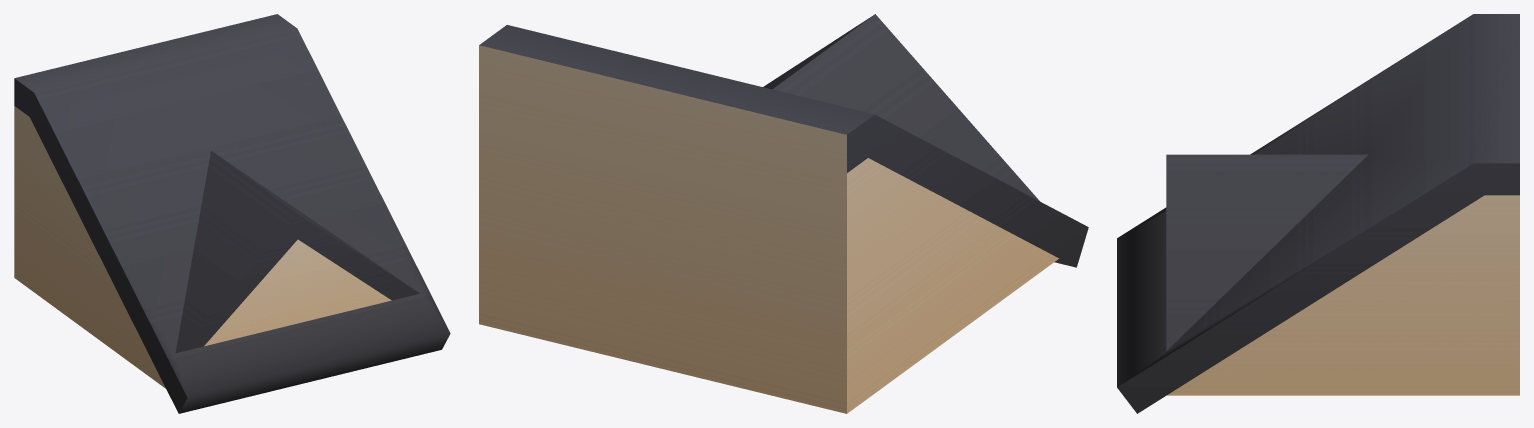
The model's file is roof-slanted-detail.glb.
3 views of the same model, side by side, from view 1: azimuth 30°, elevation 25°; view 2: azimuth 150°, elevation 25°; view 3: azimuth 270°, elevation 25° (orthographic). The views are drawn at different scales.
Parts seen in each view (by area): view 1: roof-slanted-detail; view 2: roof-slanted-detail; view 3: roof-slanted-detail.
Boxes of the visible parts, <box> form: roof-slanted-detail: <box>14,14,450,413</box>; roof-slanted-detail: <box>479,14,1088,413</box>; roof-slanted-detail: <box>1117,14,1519,413</box>.
Bounding box in the file's own units: 1 × 0.782 × 1.14.
1 material, 1 textured.
